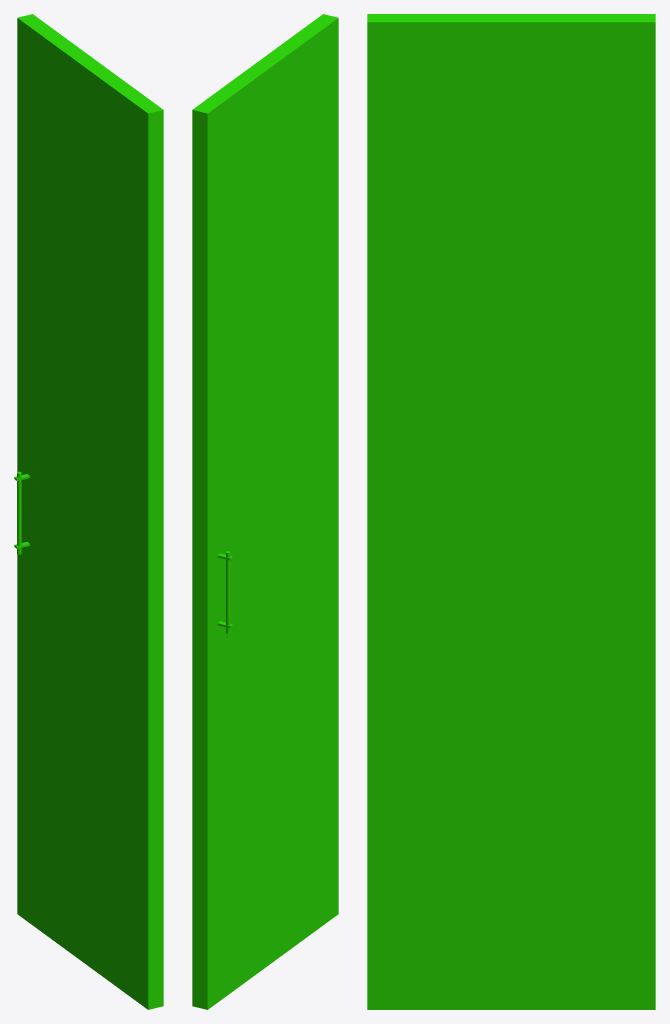
Rendered from Office_Cupboard_01_Door_R_Lod0.fbx.
3 views of the same model, side by side, from view 1: azimuth 30°, elevation 25°; view 2: azimuth 150°, elevation 25°; view 3: azimuth 270°, elevation 25° (orthographic). The views are drawn at different scales.
Parts seen in each view (by area): view 1: Office_Cupboard_01_Door_R_Lod0; view 2: Office_Cupboard_01_Door_R_Lod0; view 3: Office_Cupboard_01_Door_R_Lod0.
Boxes of the visible parts, <box> form: Office_Cupboard_01_Door_R_Lod0: <box>14,14,163,1009</box>; Office_Cupboard_01_Door_R_Lod0: <box>192,14,338,1009</box>; Office_Cupboard_01_Door_R_Lod0: <box>367,14,655,1009</box>.
Size of the model in its own units: 6.5 by 198 by 52.33.
